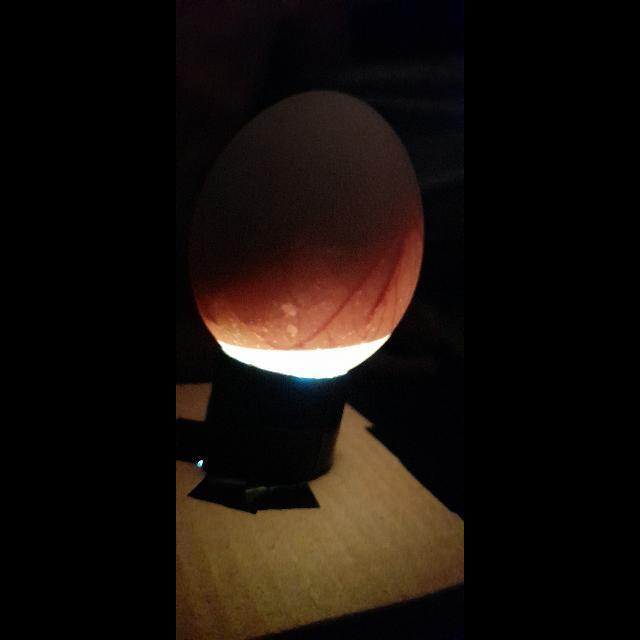Fertile: (192, 90, 424, 382)
